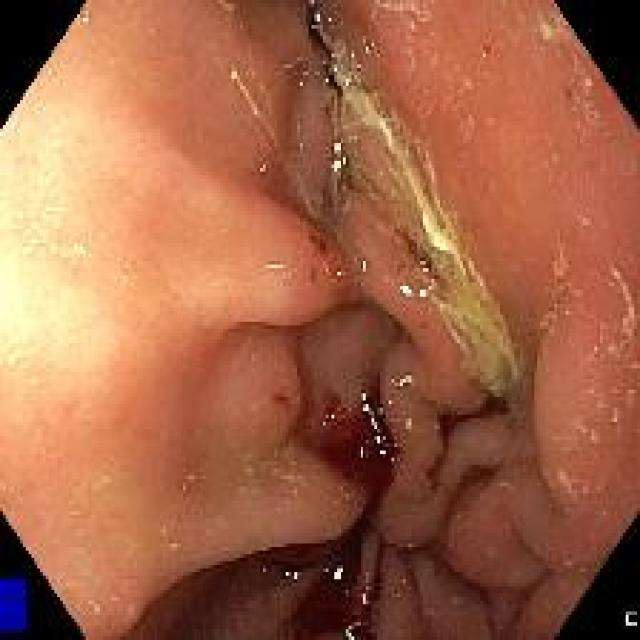blood: (294, 519, 386, 637), (314, 392, 397, 518), (438, 394, 517, 467)
bubbles: (323, 405, 338, 426), (331, 263, 345, 279)
color misalignment: (0, 579, 28, 636)
saturation: (0, 99, 93, 427)
specularity: (361, 571, 373, 607), (342, 620, 364, 639), (328, 156, 351, 173), (394, 373, 416, 388), (375, 433, 388, 458), (332, 267, 350, 283), (399, 283, 414, 301), (281, 568, 301, 581), (356, 257, 371, 274), (418, 258, 433, 275), (343, 72, 353, 93), (368, 414, 381, 430), (333, 562, 343, 582), (356, 443, 365, 462), (361, 403, 374, 416), (418, 284, 428, 300), (330, 140, 342, 153), (312, 9, 322, 24), (363, 42, 371, 57), (357, 394, 368, 401), (331, 411, 335, 421)
